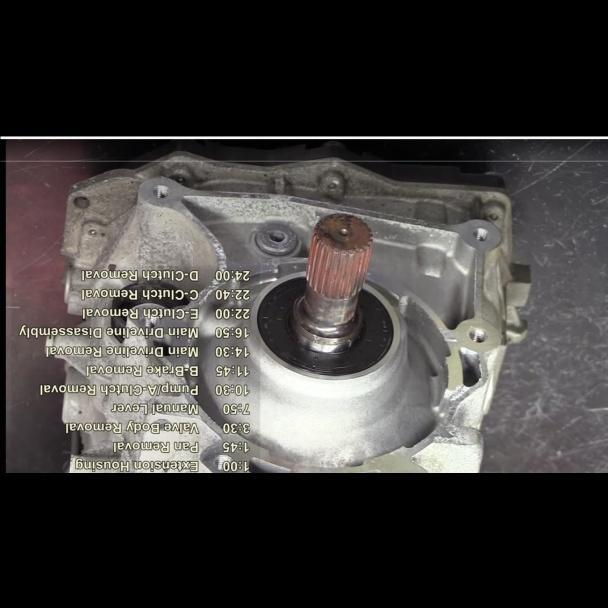hole: (467, 326, 490, 344), (150, 182, 169, 199), (471, 226, 488, 241)
